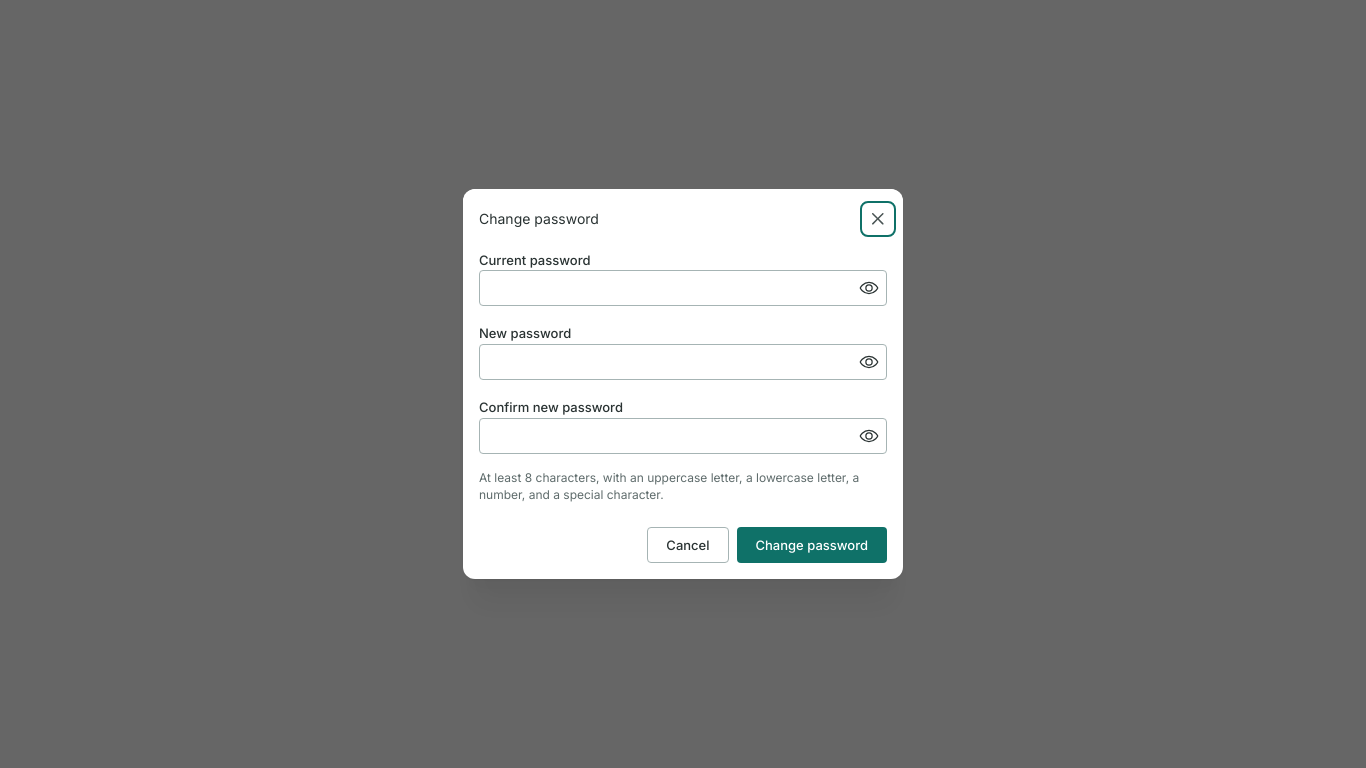
ChangePasswordDialog › refuses a mismatched confirmation
Type "OldPass1!" into the password field labelled "Current password" at (683, 288), box [480,271,886,305]
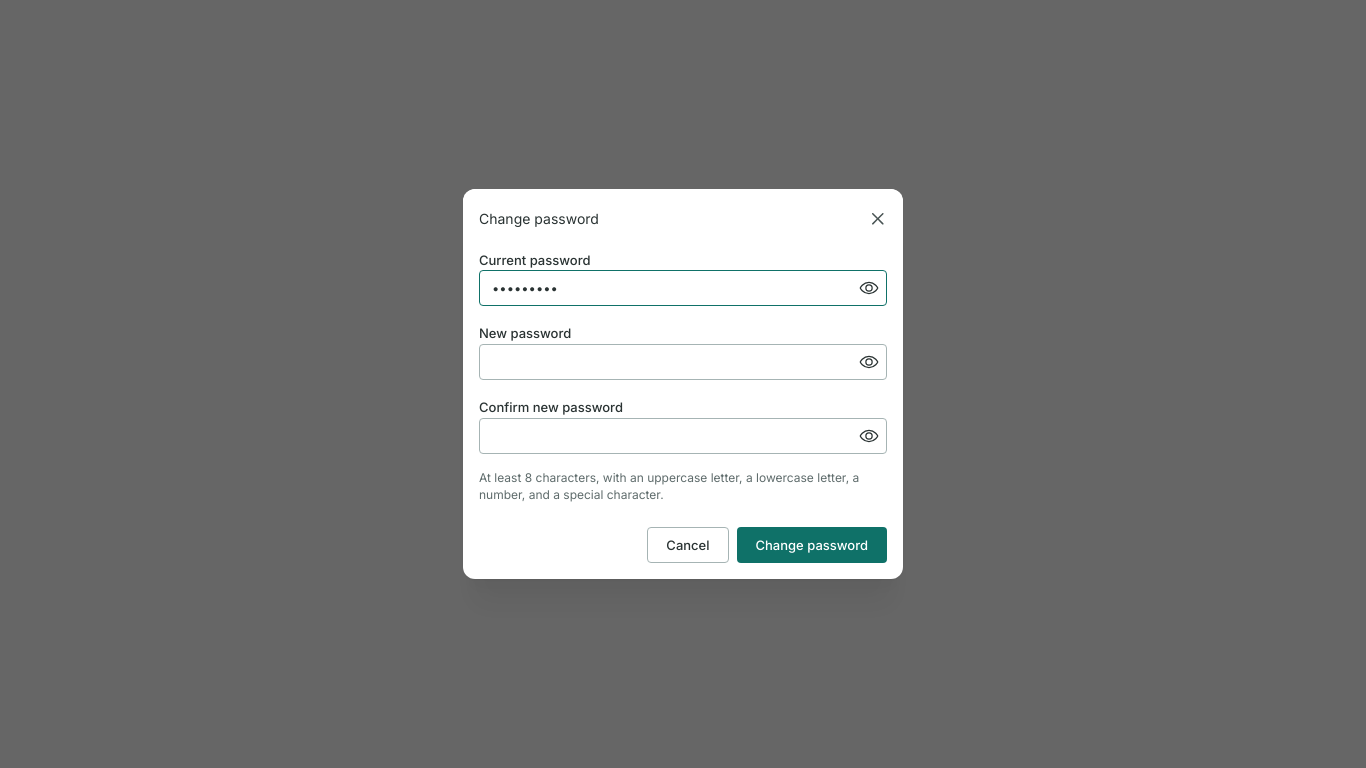
Type "NewPass1!" into the password field labelled "New password" at (683, 362), box [480,345,886,379]
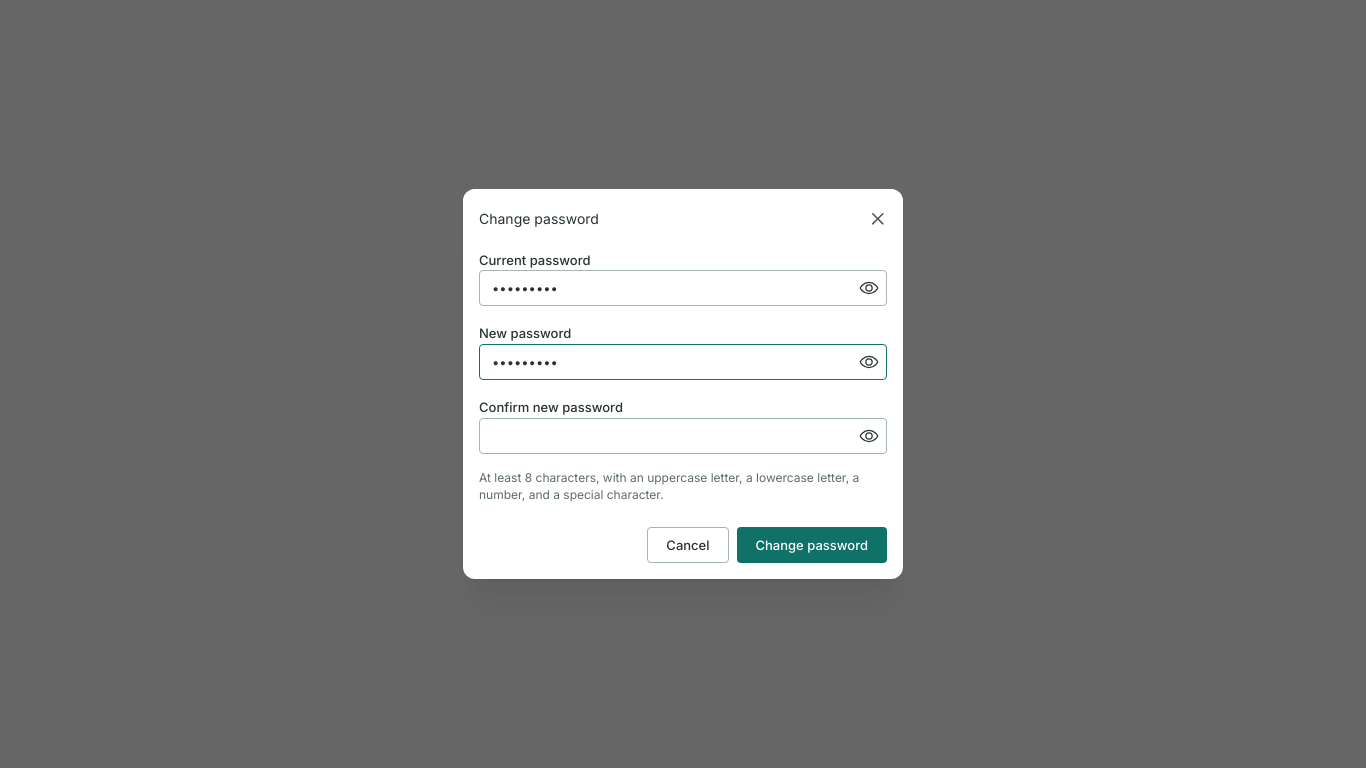
Type "OtherPass1!" into the password field labelled "Confirm new password" at (683, 436), box [480,419,886,453]
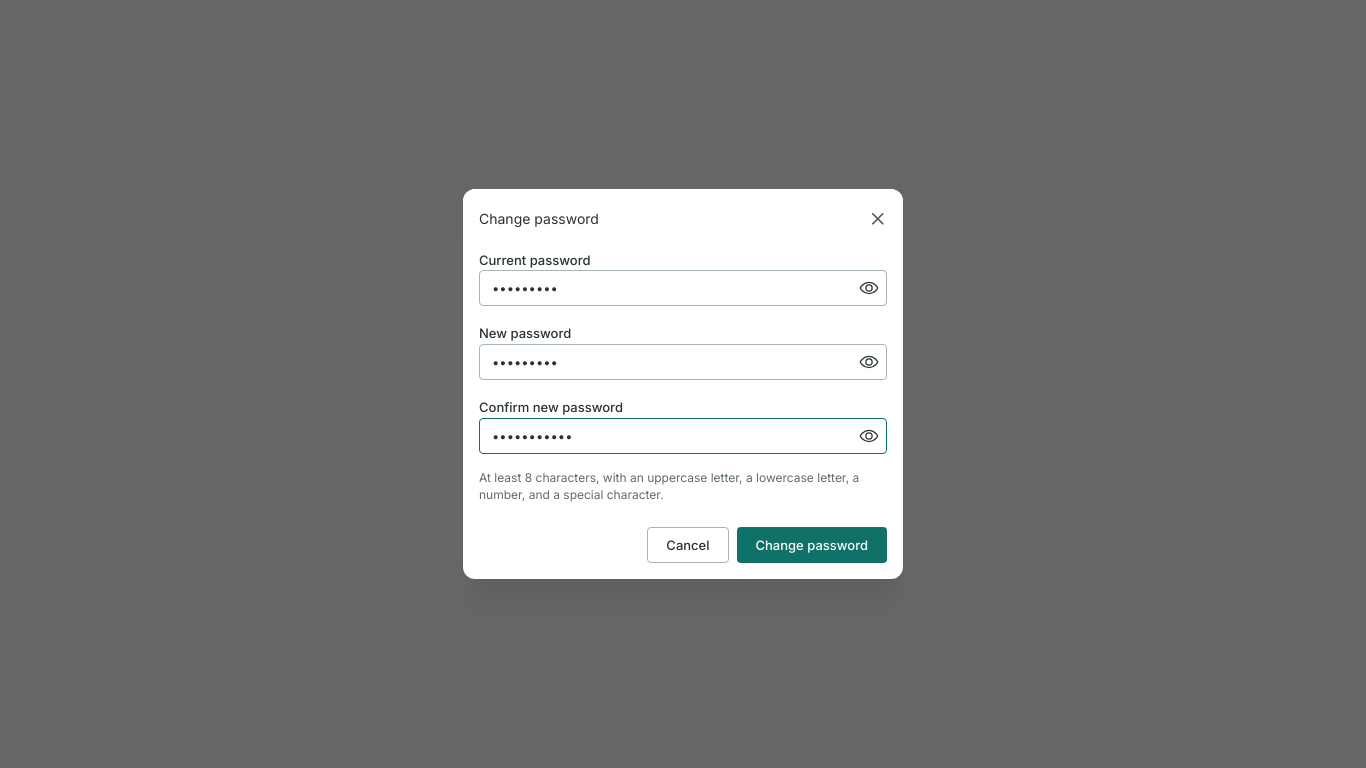
Click the button "Change password" at (812, 545), box [736,527,887,563]
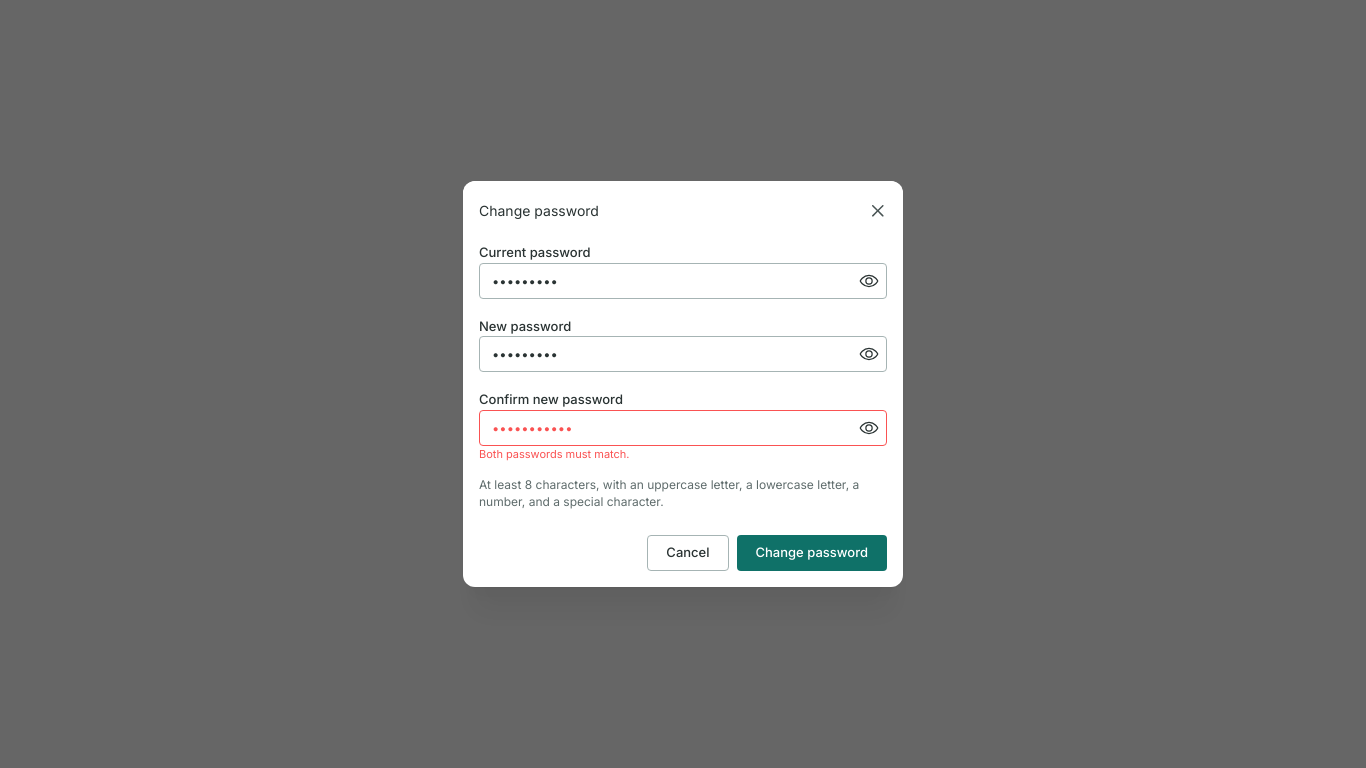
Expected: the text "Both passwords must match." is shown, [479,447,630,461]
